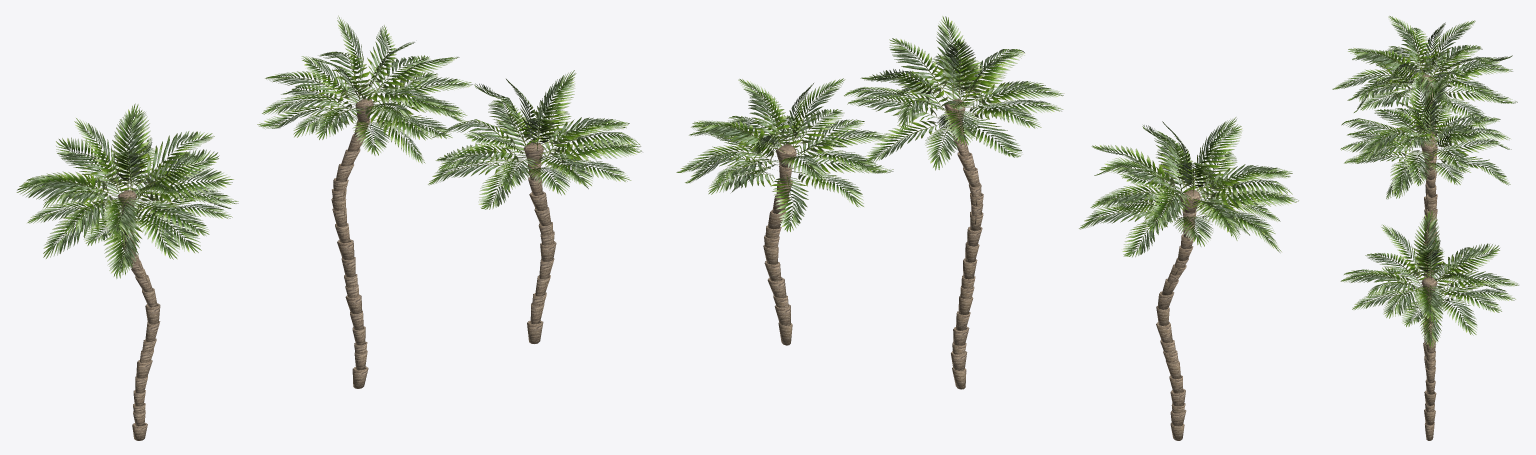
Rendered from palm_V1 (1).fbx.
3 views of the same model, side by side, from view 1: azimuth 30°, elevation 25°; view 2: azimuth 150°, elevation 25°; view 3: azimuth 270°, elevation 25° (orthographic). The views are drawn at different scales.
Parts seen in each view (by area): view 1: Plane.003, Plane.028, Cylinder.003; view 2: Plane.003, Plane.028, Cylinder.003; view 3: Cylinder.003, Plane.028, Plane.003.
Part boxes in pixels (<box>): Plane.003: <box>16,103,238,440</box>; Plane.028: <box>257,15,472,388</box>; Cylinder.003: <box>428,70,641,343</box>; Plane.003: <box>1079,117,1298,440</box>; Plane.028: <box>844,16,1064,389</box>; Cylinder.003: <box>676,78,893,345</box>; Cylinder.003: <box>1340,210,1518,440</box>; Plane.028: <box>1340,72,1511,369</box>; Plane.003: <box>1332,16,1517,273</box>.
Size of the model in its own units: 5363 by 3118 by 1834.
2 materials, 2 textured.
